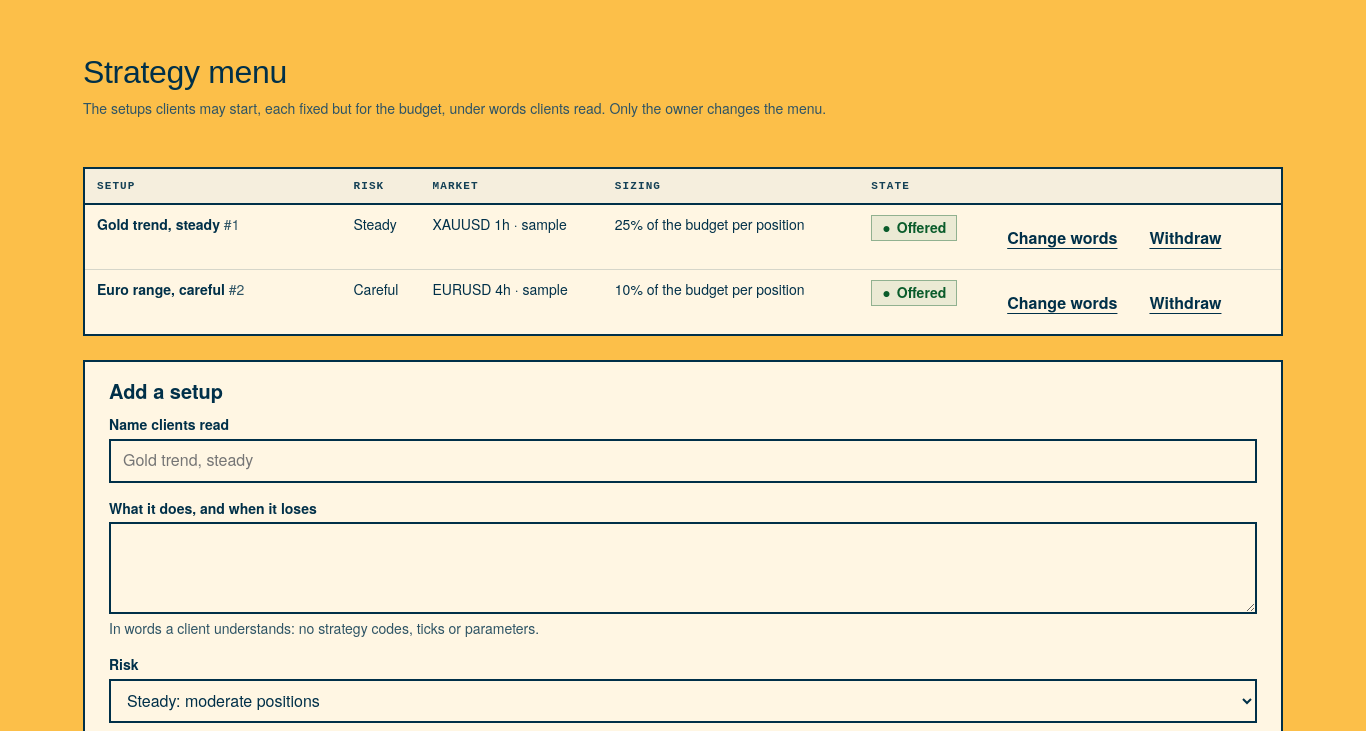
Test: The owner’s Strategy menu › lists the setups, withdraws one, and changes another’s words
The width and height of the screenshot is (1366, 731).
Click the button with aria-label "Withdraw Euro range, careful" at (1186, 302), box [1140, 280, 1232, 324]
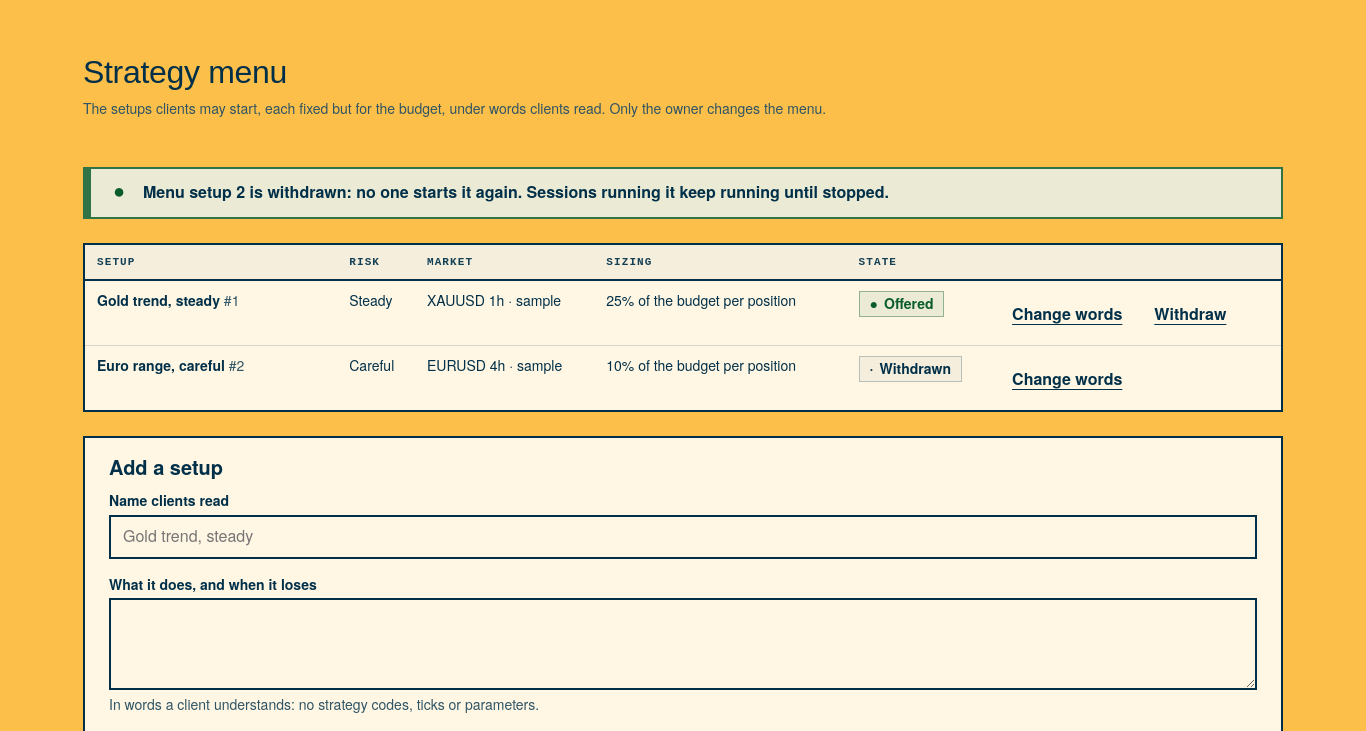
expect the text "Menu setup 2 is withdrawn" is shown: met, box [143, 180, 889, 203]
expect the text "Withdrawn" is shown: met, box [880, 358, 951, 378]
Click the button with aria-label "Change words of Gold trend, steady" at (1067, 313), box [1002, 291, 1132, 335]
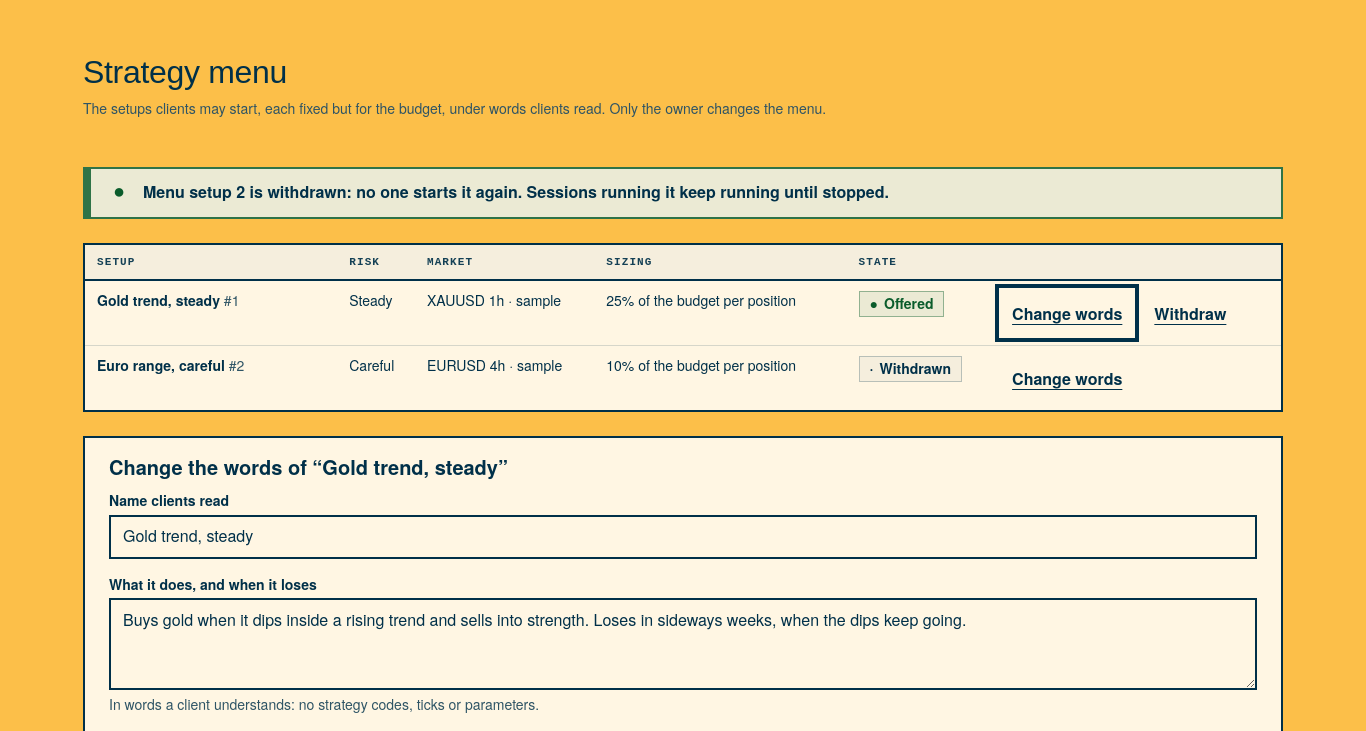
Type "Gold trend, calm" into the field labelled "Name clients read" at (683, 537), box [109, 515, 1257, 559]
(page scrolled)
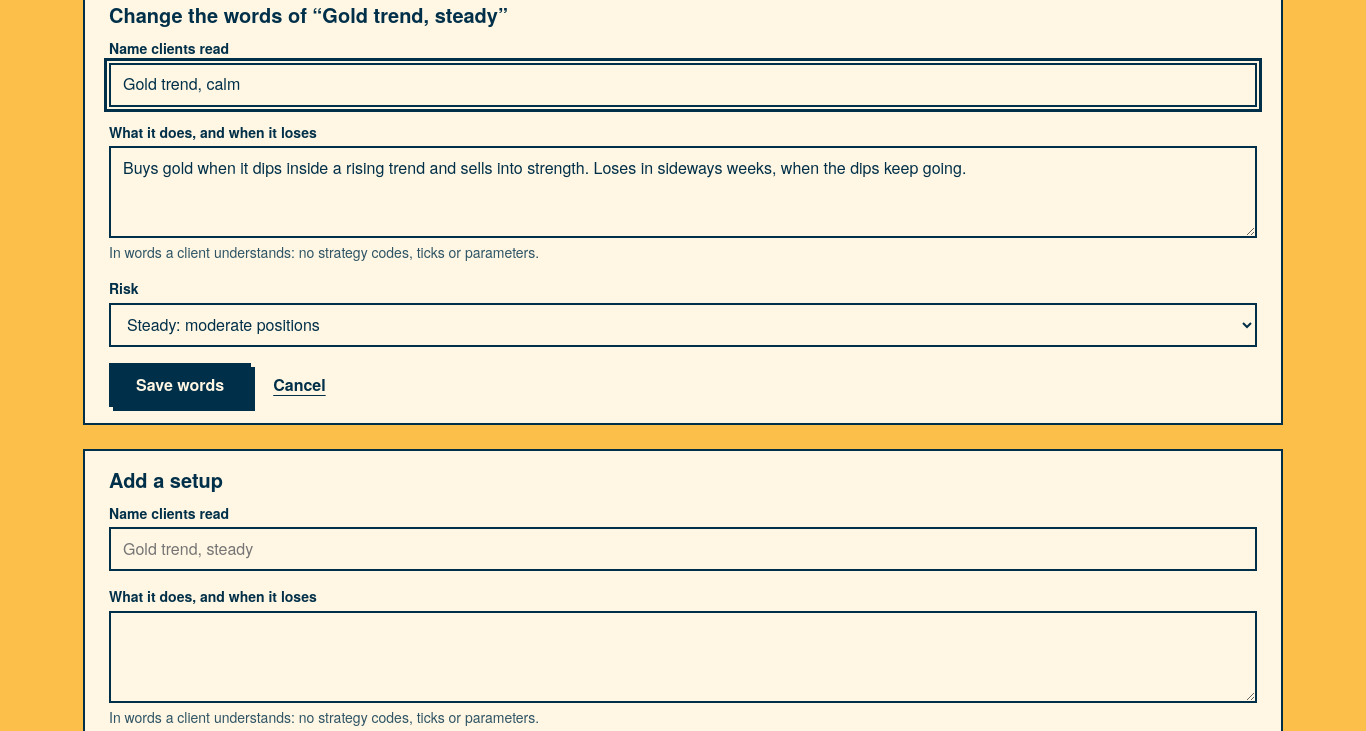
Click the button "Save words" at (180, 385), box [109, 363, 251, 407]
(page scrolled)
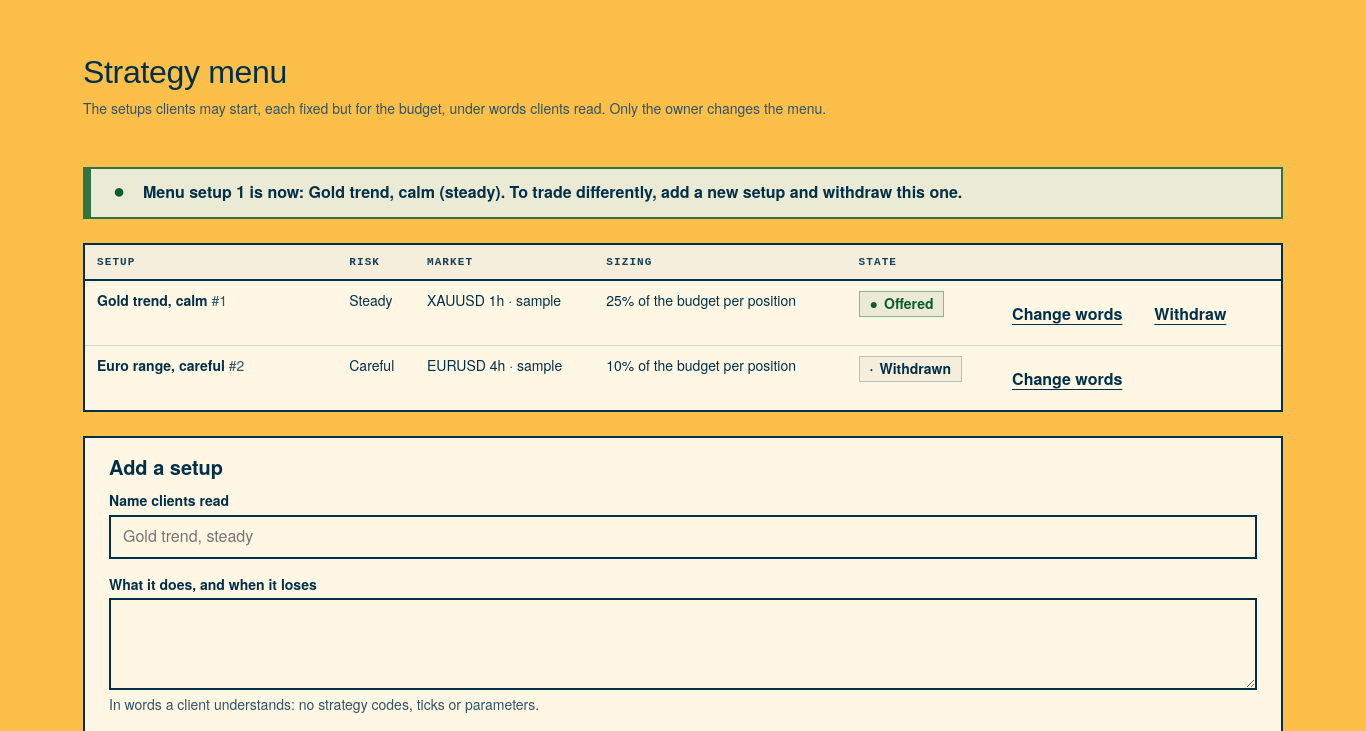
expect the text "Menu setup 1 is now: Gold trend, calm" is shown: met, box [143, 180, 962, 203]
